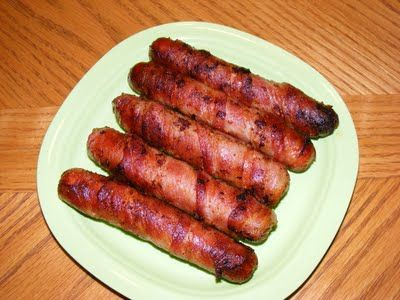bacon: (109, 55, 284, 253)
